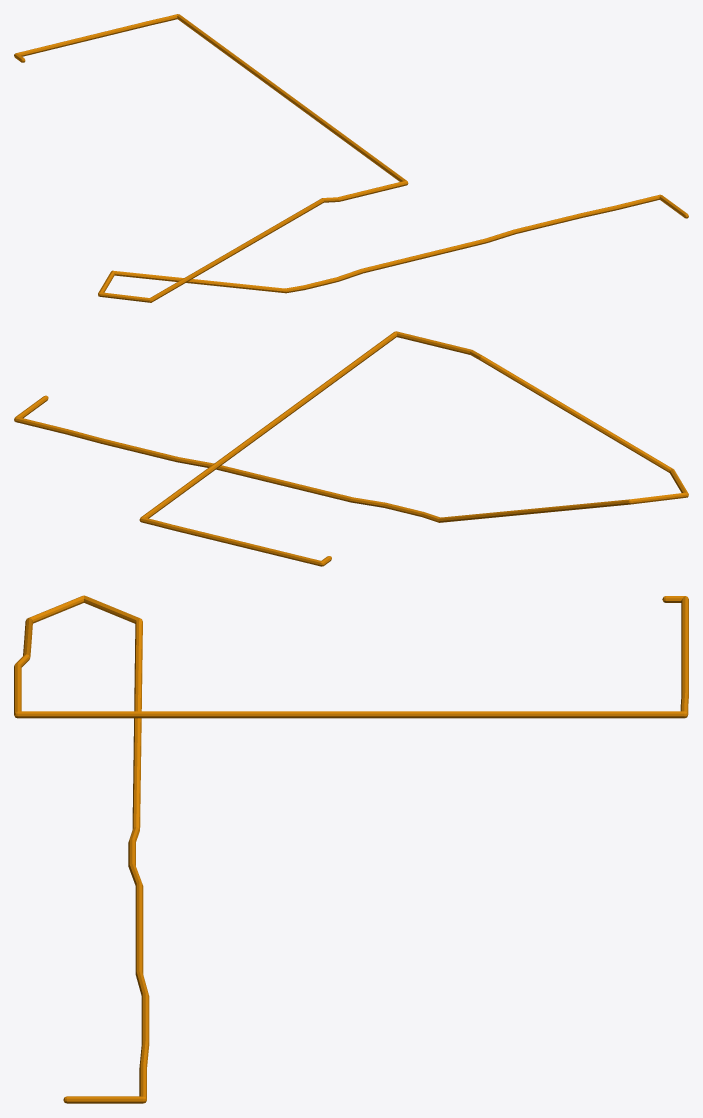
3 renders of one model, top to bottom at view 1: azimuth 30°, elevation 25°; view 2: azimuth 150°, elevation 25°; view 3: azimuth 270°, elevation 25°, orthographic. The views are drawn at different scales.
Size of the model in its own units: 2595 by 520 by 1772.
